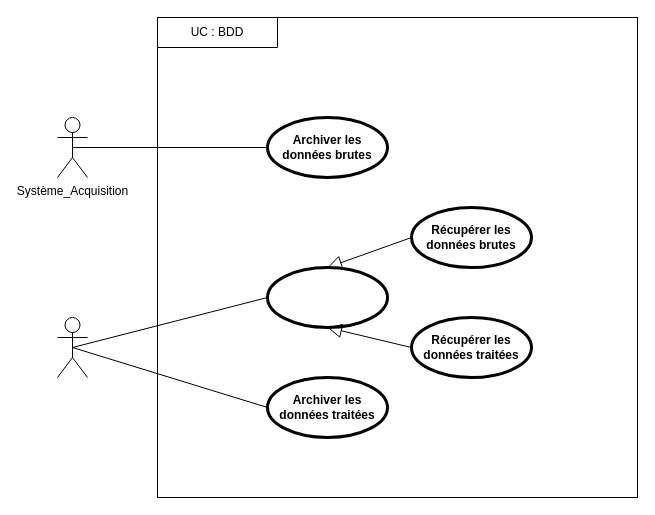
The diagram is 655 pixels wide and 515 high, and some of its shapes have lost their labels. The centre of each missing label's shape, as x and y in pixels:
"Récupérer les données" belongs at (327,297).
"Serveur_Traitement" belongs at (72,347).
